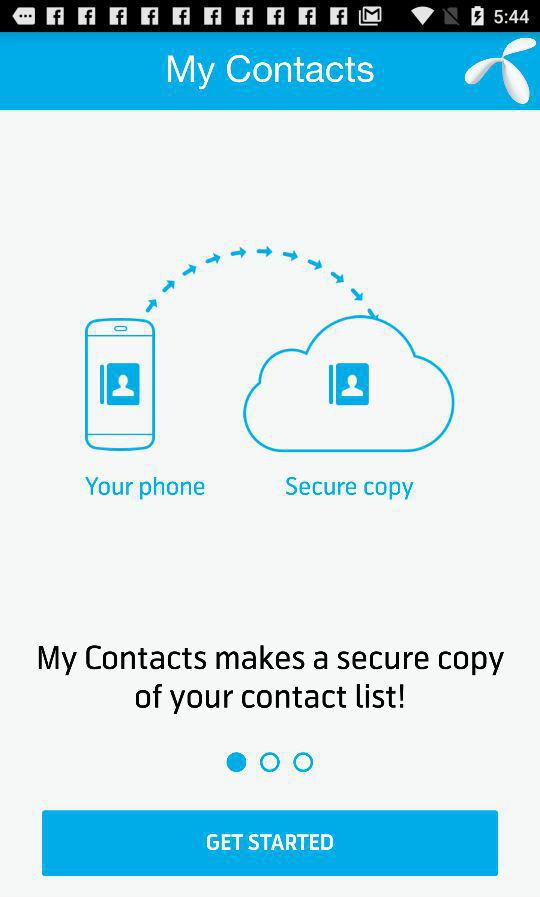Image: (86, 245, 455, 503), (464, 38, 537, 106)
PageIndicator: (226, 751, 315, 774)
Text: (39, 644, 505, 715), (167, 54, 375, 91)
TextButton: (42, 810, 499, 876)
UpperTaskBar: (1, 1, 540, 33)
